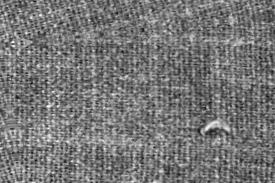snag: (194, 117, 236, 142)
